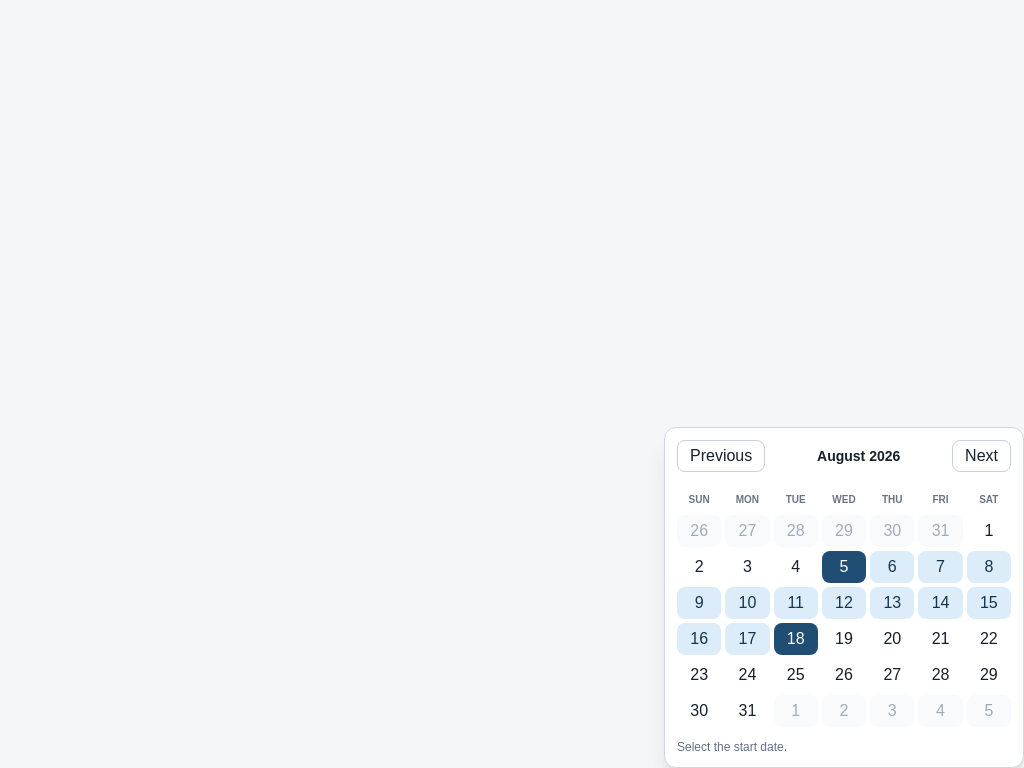
Test case: DateRangePickerDialog › stays open after the start date, since the range is not complete
The width and height of the screenshot is (1024, 768).
(page scrolled)
Click the button "10" at (747, 603), box [725, 587, 770, 619]
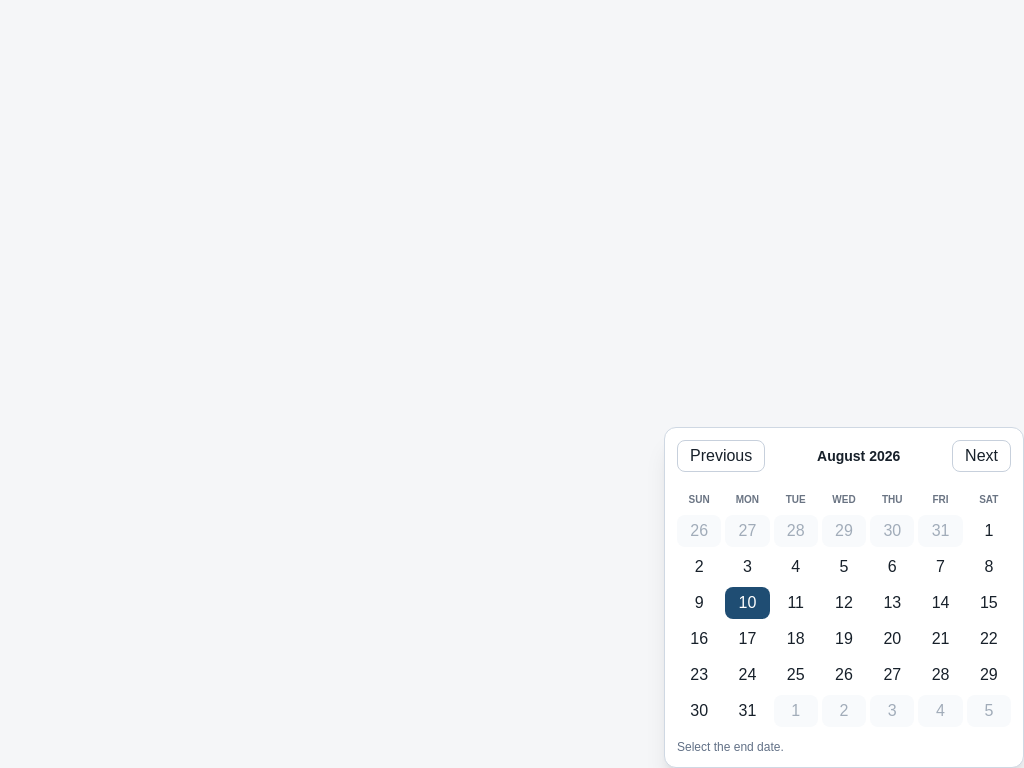
Expected: the dialog is shown, [664, 427, 1023, 767]
Expected: the text "Select the end date." is shown, [677, 740, 784, 754]
